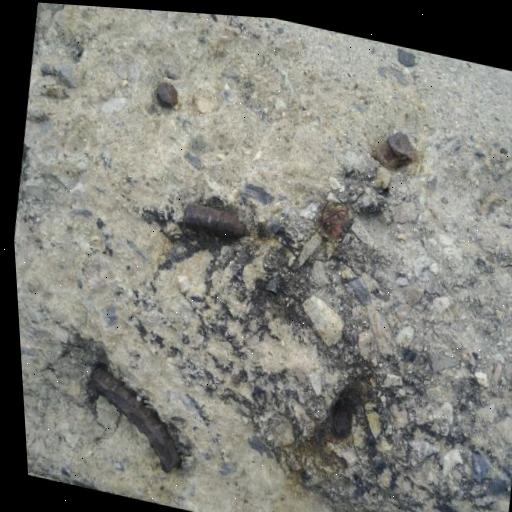exposed_rebar: (91, 368, 179, 472), (183, 203, 248, 238), (385, 132, 416, 165), (157, 82, 177, 107)
